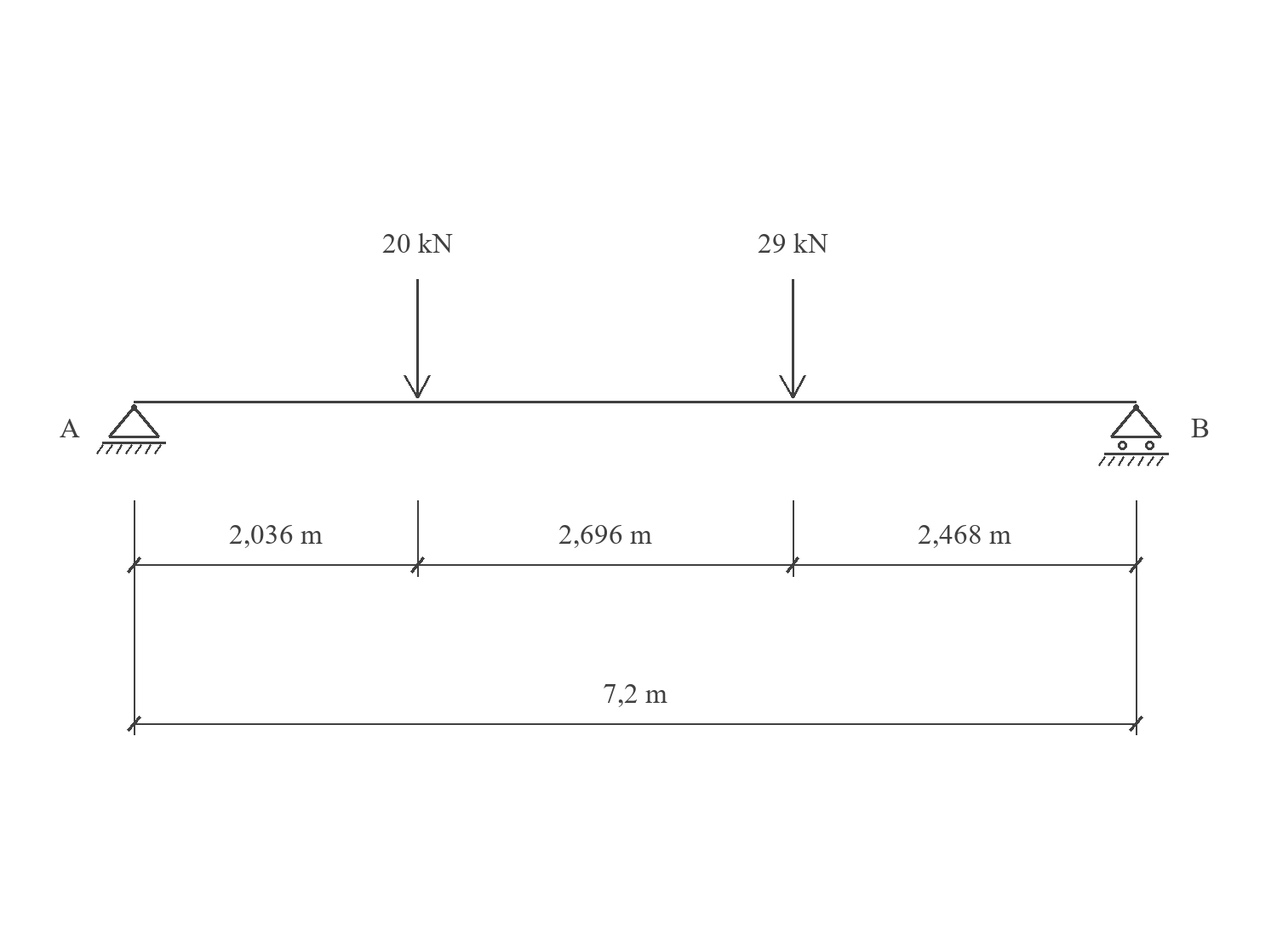pin_support: (96, 404, 166, 454)
point_load: (404, 279, 431, 398), (779, 279, 806, 398)
roller_support: (1098, 404, 1169, 466)
